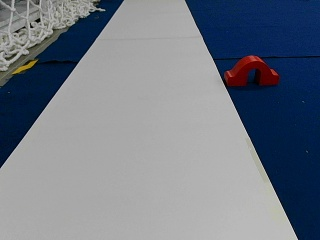bridge: (226, 55, 278, 84)
